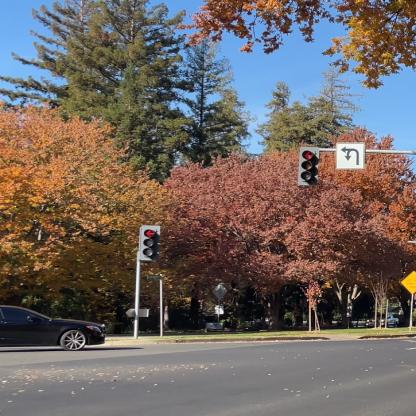left-red: (298, 145, 320, 187), (138, 224, 161, 262)
